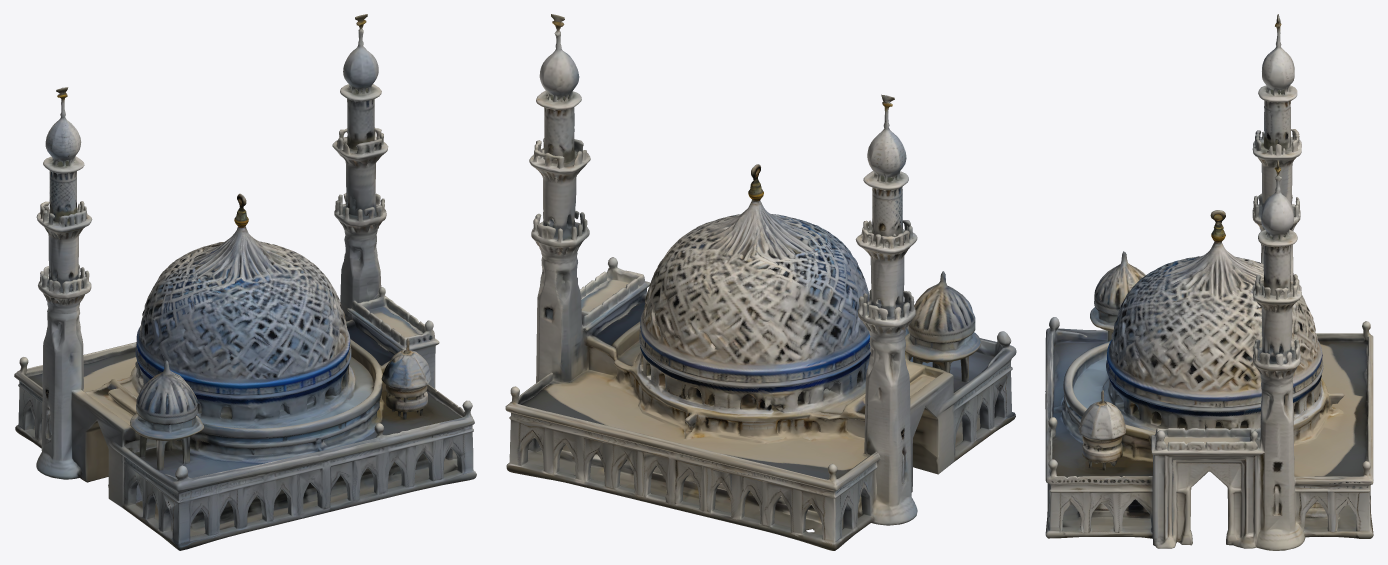
File: building-mosque.glb
3 views of the same model, side by side, from view 1: azimuth 30°, elevation 25°; view 2: azimuth 150°, elevation 25°; view 3: azimuth 270°, elevation 25° (orthographic). The views are drawn at different scales.
Parts seen in each view (by area): view 1: tripo_node_536f0037-1e44-436b-a849-832eb7c7cbad; view 2: tripo_node_536f0037-1e44-436b-a849-832eb7c7cbad; view 3: tripo_node_536f0037-1e44-436b-a849-832eb7c7cbad.
Boxes of the visible parts, x1=… form: tripo_node_536f0037-1e44-436b-a849-832eb7c7cbad: x1=14, y1=14, x2=476, y2=550; tripo_node_536f0037-1e44-436b-a849-832eb7c7cbad: x1=505, y1=14, x2=1016, y2=550; tripo_node_536f0037-1e44-436b-a849-832eb7c7cbad: x1=1045, y1=14, x2=1373, y2=550.
Size of the model in its own units: 15.16 by 16 by 12.55.
1 material, 1 textured.
